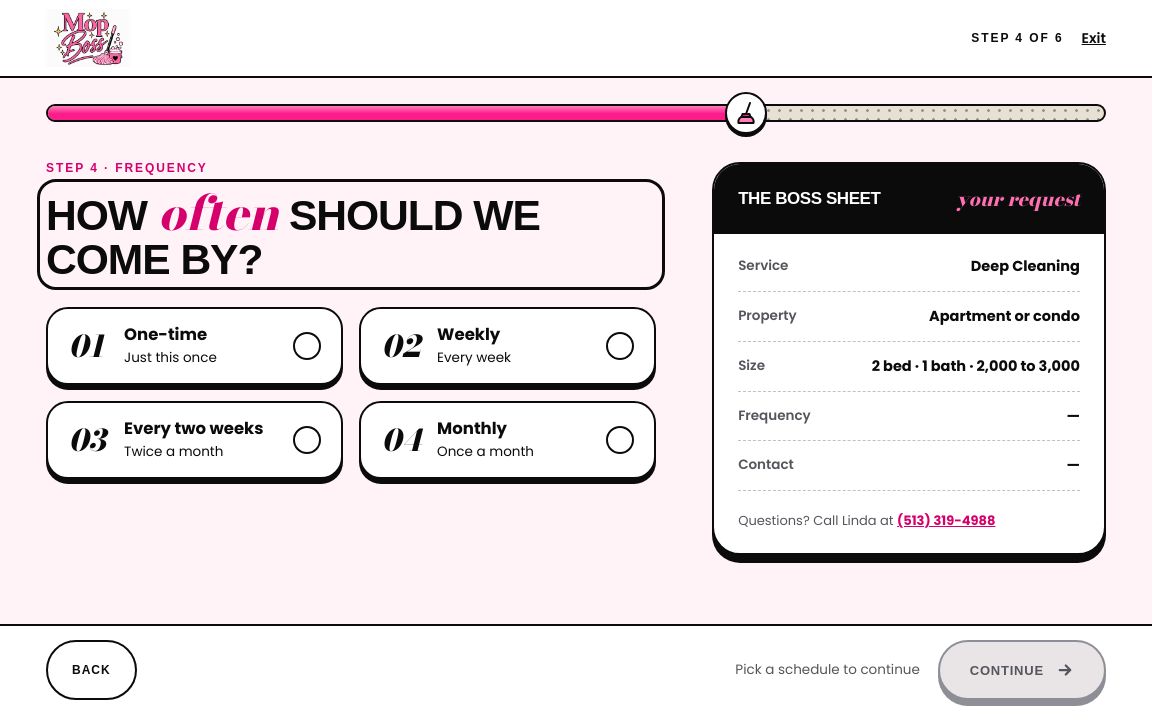
QuoteFlow › edits from the review step, keeps the other answers and submits through the adapter
The width and height of the screenshot is (1152, 720).
Earlier steps of the test are not shown.
Later steps or results of the test are not shown.
Click the button "03 Every two weeks Twice a month" at x=195, y=440, box [46,401,343,479]
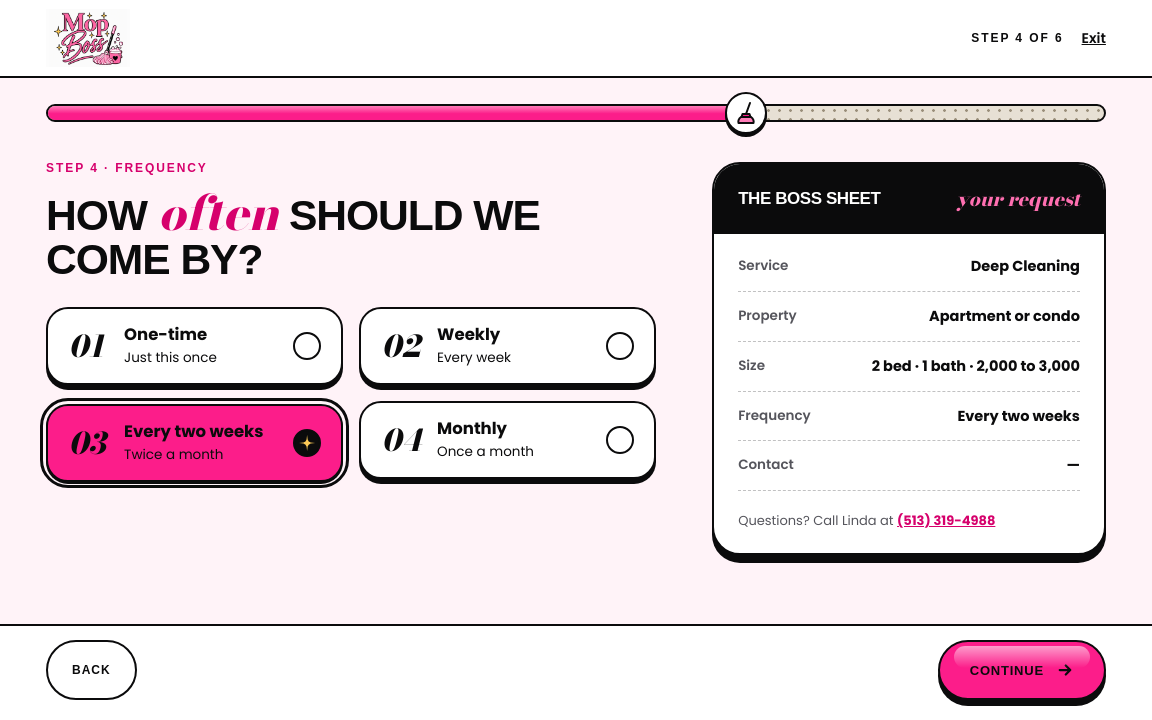
Click the button "Continue" at x=1022, y=670, box [938,640,1106,700]
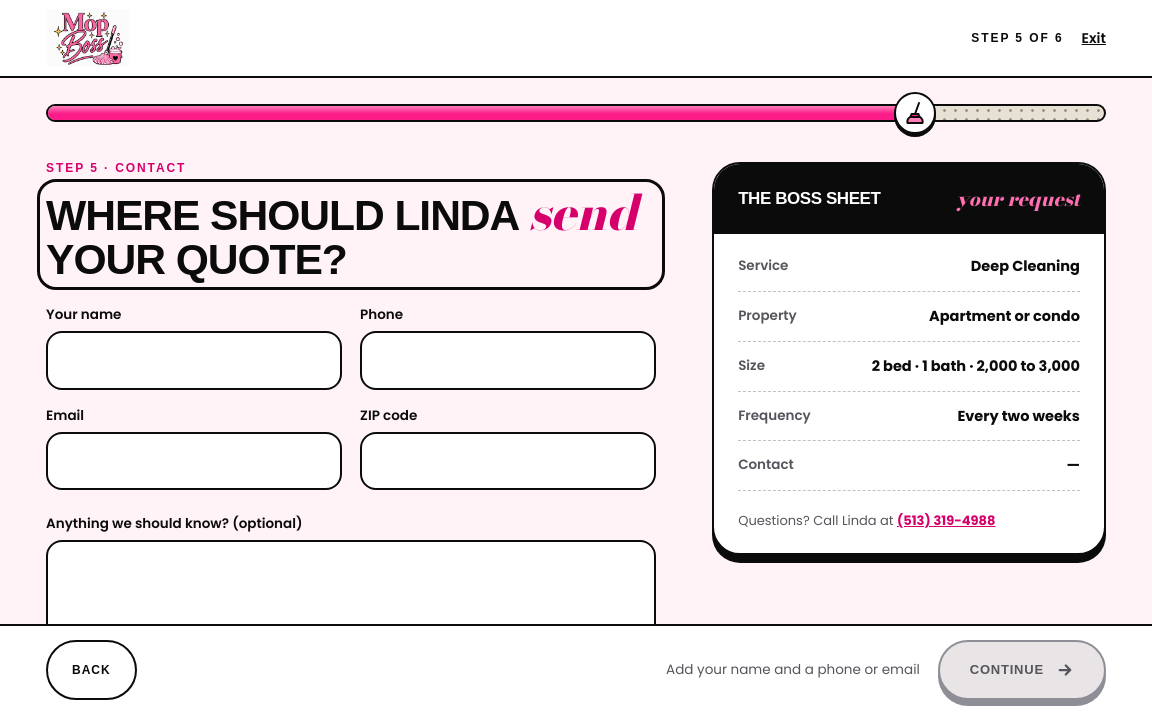
Type "Dana Smith" into the field labelled "Your name" at x=194, y=360, box [46,331,342,390]
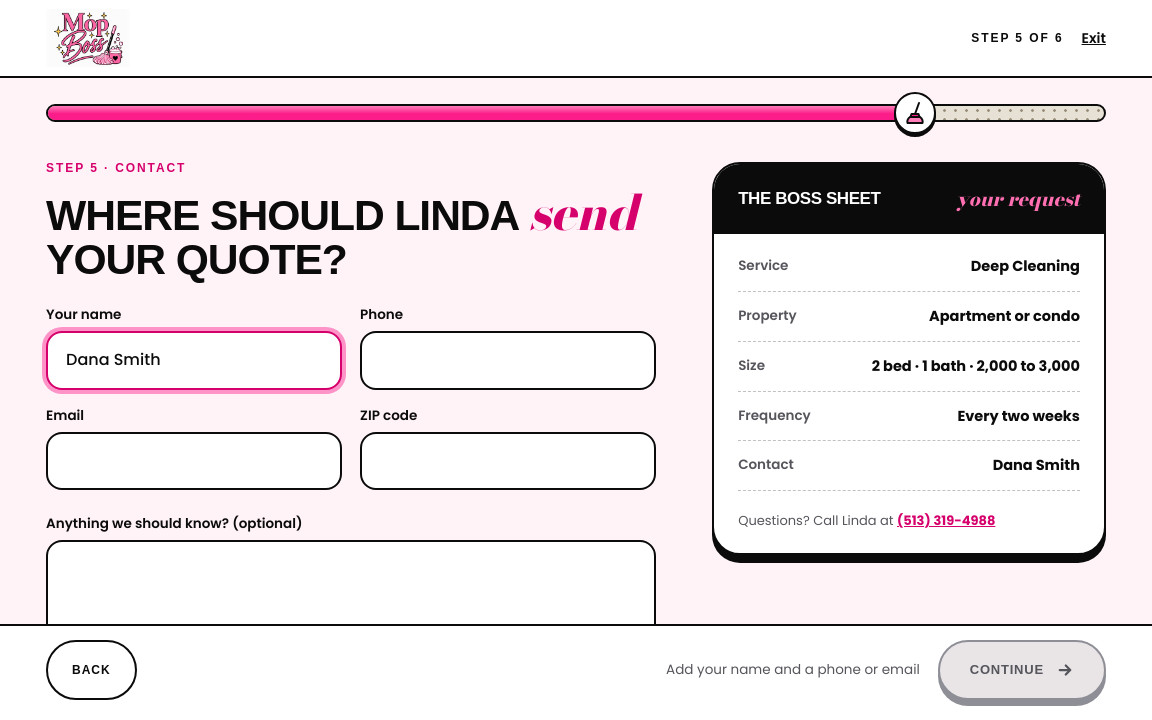
Type "513 555 0100" into the field labelled "Phone" at x=508, y=360, box [360,331,656,390]
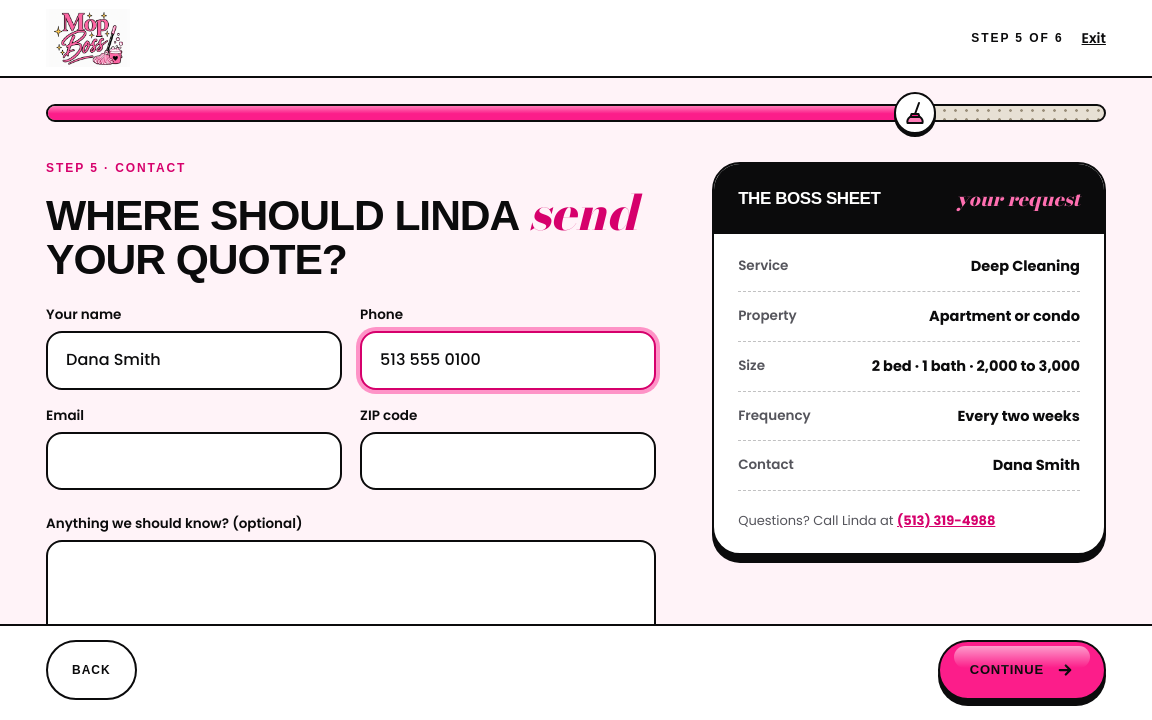
Click the button "Continue" at x=1022, y=670, box [938,640,1106,700]
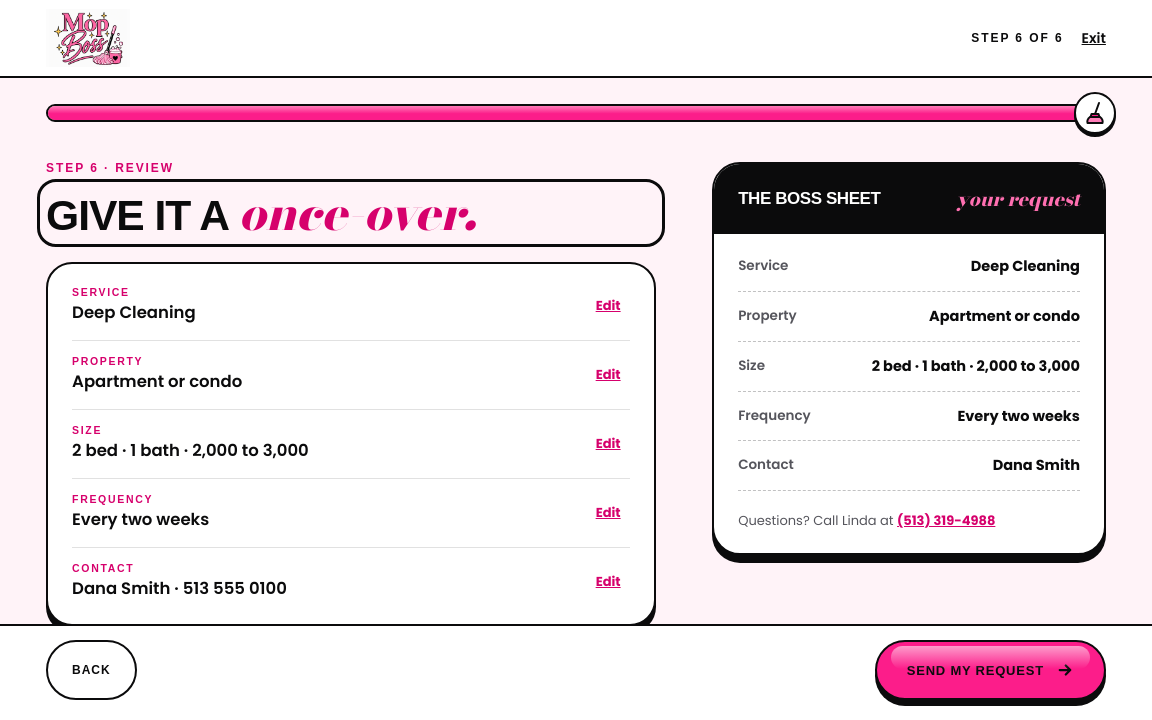
Result: the heading reads "Give it a once-over." at [46,175,476,249]
Result: the text "Apartment or condo" below "once-over." is shown at [72,370,242,393]
Click the button with aria-label "Edit property" at x=608, y=375, box [586,353,630,397]
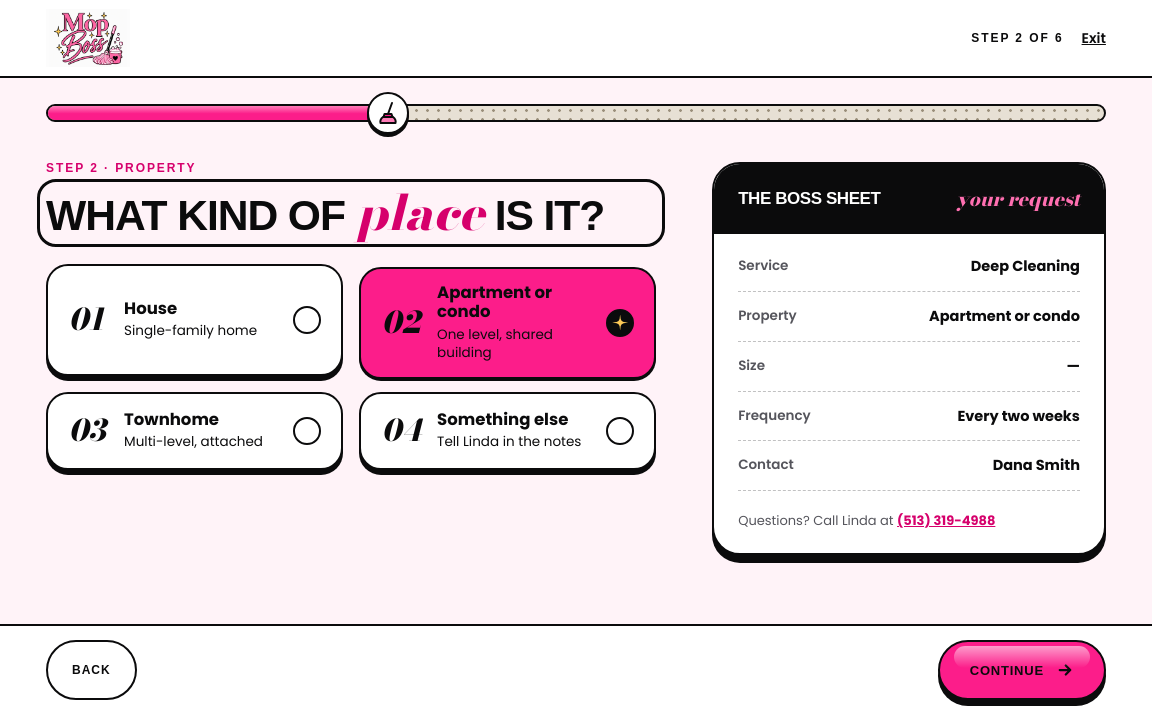
Result: the heading reads "What kind of place is it?" at [46,188,656,238]
